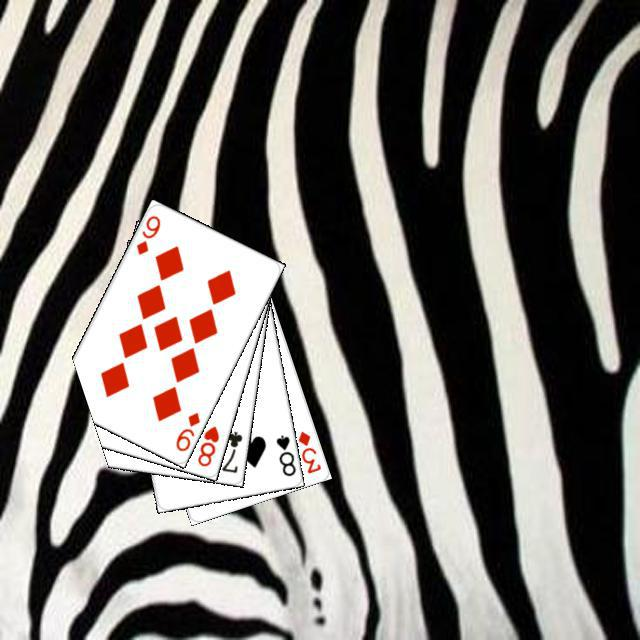3d: (293, 426, 323, 475)
7c: (217, 426, 244, 475)
8h: (193, 421, 221, 468)
8s: (271, 430, 297, 478)
9d: (131, 210, 162, 257), (171, 407, 202, 453)
